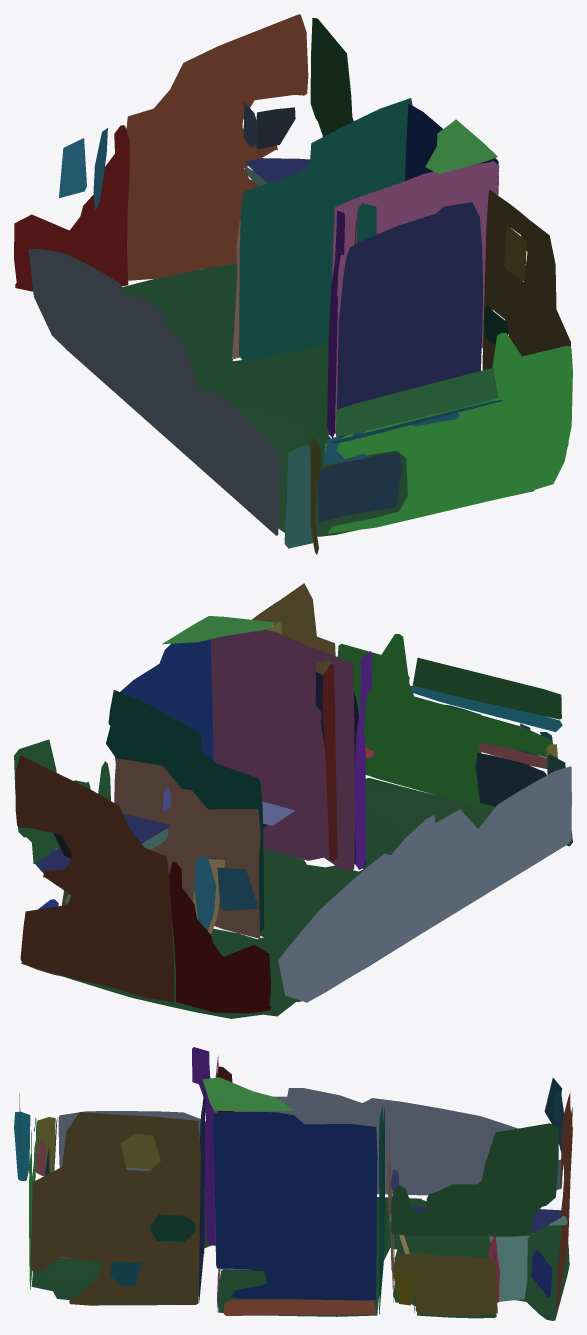
Rendered from Ours-scene0084_00.glb.
3 renders of one model, top to bottom at view 1: azimuth 30°, elevation 25°; view 2: azimuth 150°, elevation 25°; view 3: azimuth 270°, elevation 25°, orthographic. The views are drawn at different scales.
Parts seen in each view (by area): view 1: scene0084_Ours; view 2: scene0084_Ours; view 3: scene0084_Ours.
Boxes of the visible parts, x1,y1,x2,y2 form: scene0084_Ours: [14, 14, 572, 554]; scene0084_Ours: [14, 583, 572, 1018]; scene0084_Ours: [14, 1047, 572, 1320].
Size of the model in its own units: 2.98 by 2.25 by 5.13.
